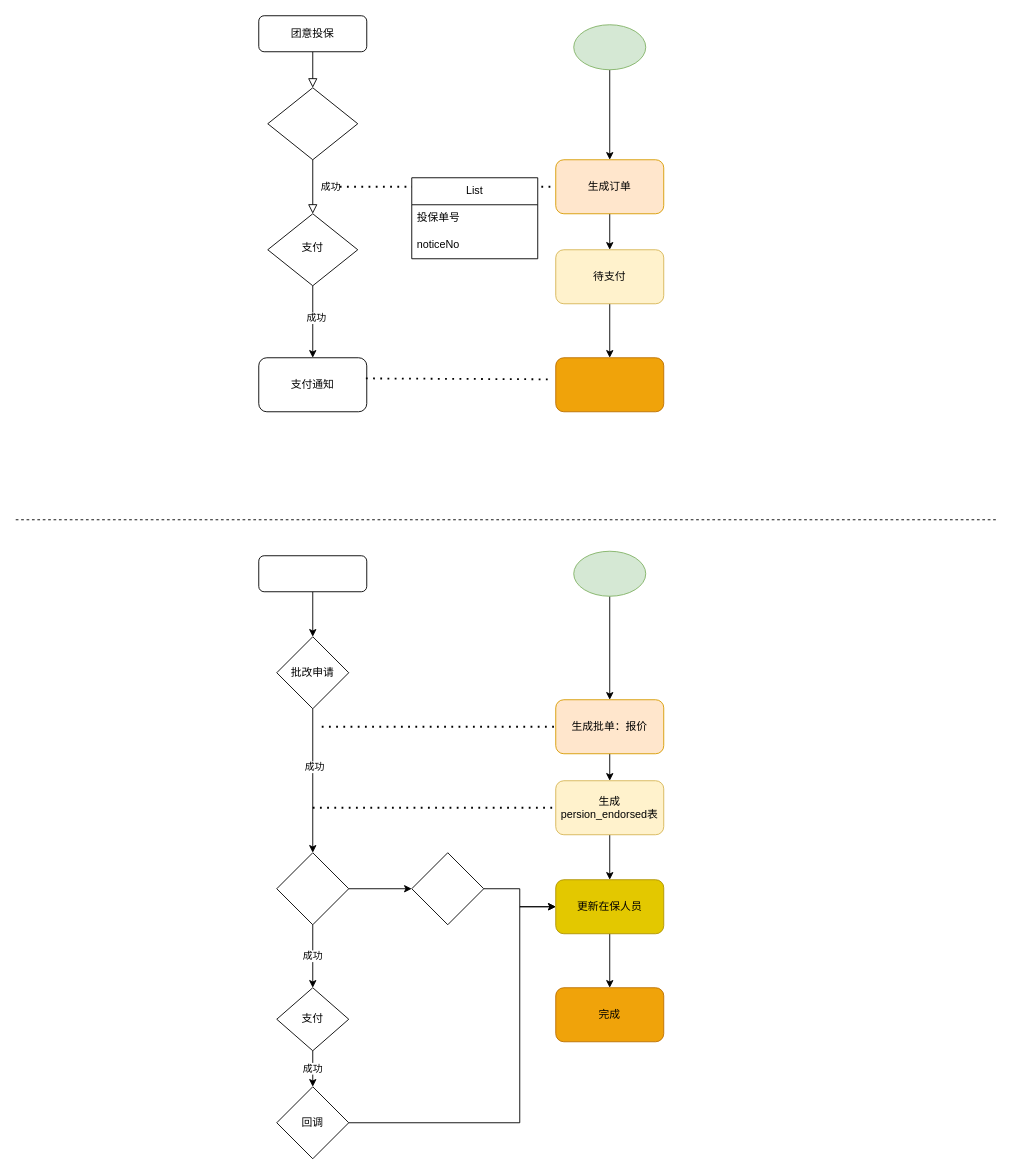
Some shapes in this 1013 by 1175 pixel diagram are drawn without their labels. The shapes that lost their labels are listed below. From the top down, each one's centre as x and y in pixels, then its label:
At pixel 609 47: "订单".
At pixel 312 123: "投保".
At pixel 609 384: "承保成功".
At pixel 312 573: "保全".
At pixel 609 573: "批单".
At pixel 312 888: "批改确认".
At pixel 447 888: "退费".
